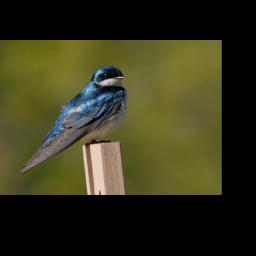Swallow: (19, 63, 130, 176)
